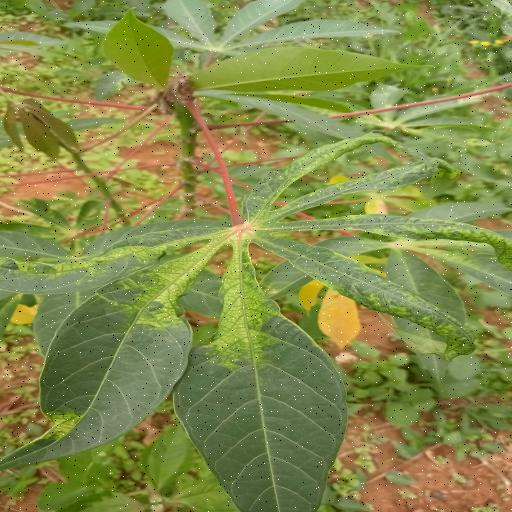Cassava_Mosaic: (0, 139, 512, 512)
